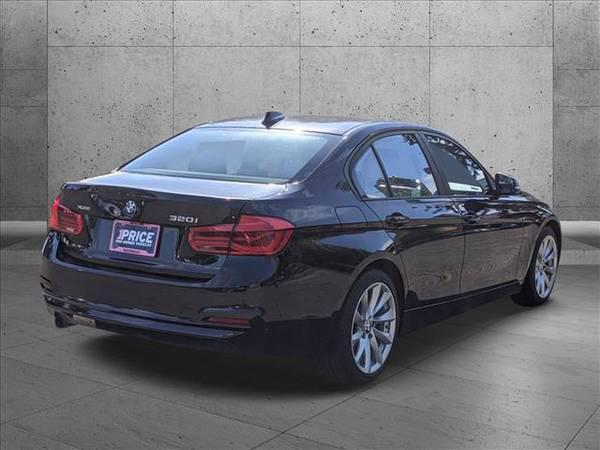Front_Fender: (509, 191, 560, 285)
Front_Right_Door: (449, 195, 519, 305)
Front_Right_Window: (414, 131, 505, 194)
Left_Taillight: (45, 202, 82, 239)
Rear_Bumper: (37, 232, 354, 360)
Rear_Fender: (239, 180, 394, 273)
Rear_Right_Door: (366, 193, 462, 325)
Rear_Right_Window: (347, 128, 446, 197)
Rear_Windshield: (115, 125, 341, 183)
Right_Taillight: (187, 217, 291, 257)
Roof: (195, 114, 511, 199)
Tailgate: (53, 173, 279, 281)
Wheel: (343, 273, 404, 380), (530, 231, 565, 306)
